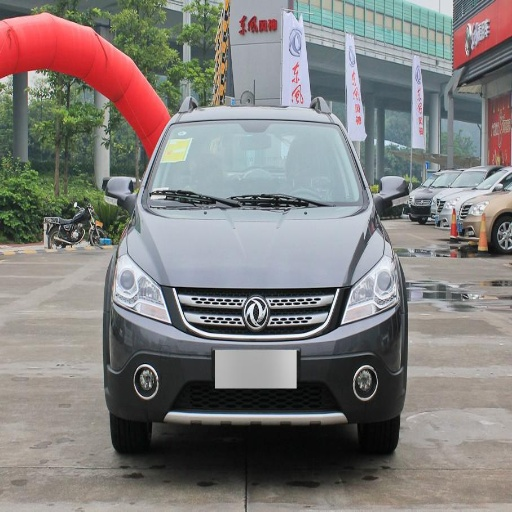front_bumper: (105, 286, 403, 426)
front_right_light: (113, 252, 170, 322)
hood: (130, 200, 384, 289)
